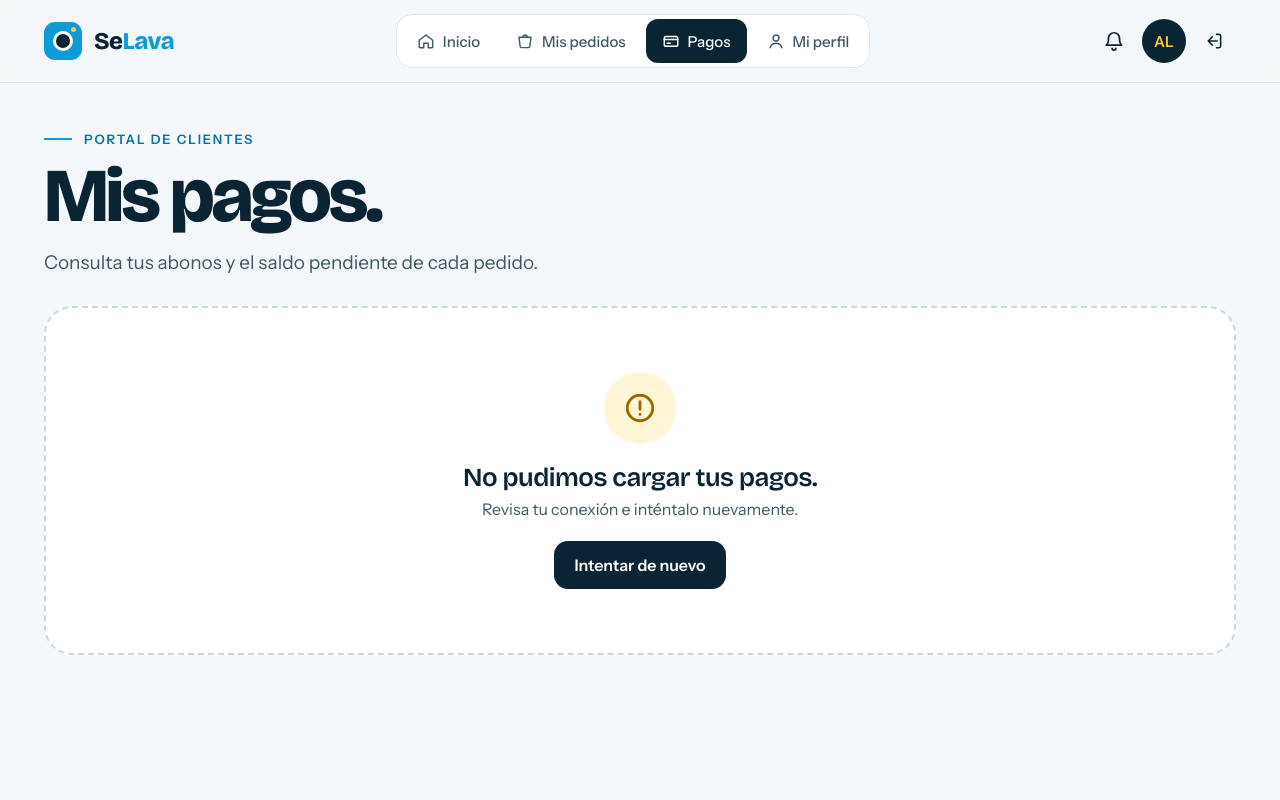
Test case: pagos propios del cliente SEL-106 › muestra error y permite reintentar
Expected: the message shows "No pudimos cargar tus pagos", [463, 462, 817, 494]
What coordinates should you click on to do the following:
click the button "Intentar de nuevo"
I would click on:
 (640, 566)
Its box is [554, 542, 726, 590].
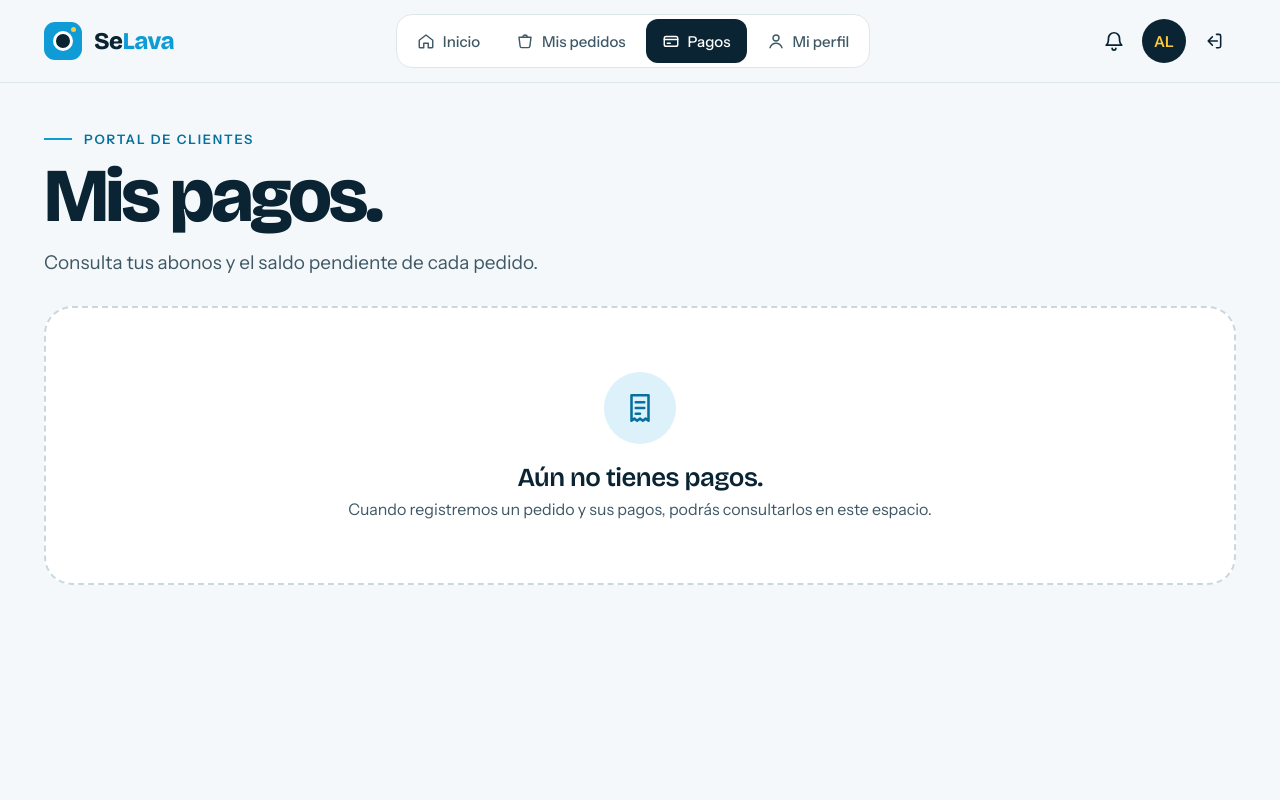
Result: the heading "Aún no tienes pagos." is shown at [518, 462, 762, 494]
